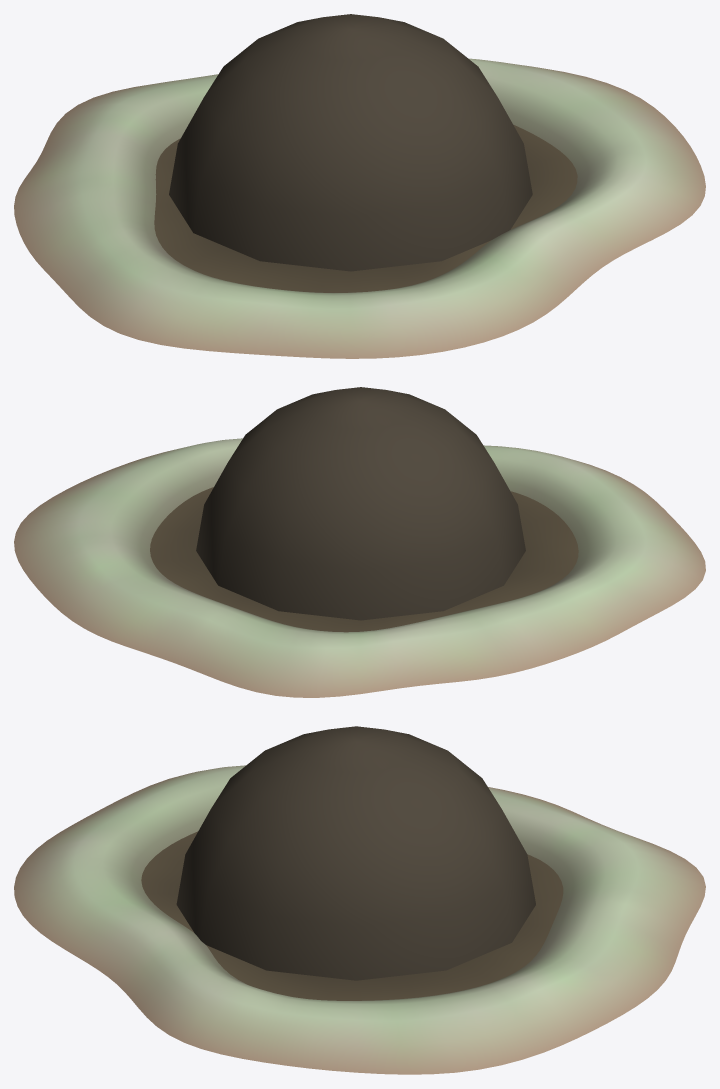
The model's file is bog.glb.
3 views of the same model, one above another, from view 1: azimuth 30°, elevation 25°; view 2: azimuth 150°, elevation 25°; view 3: azimuth 270°, elevation 25° (orthographic). The views are drawn at different scales.
Parts seen in each view (by area): view 1: bog_rim, bog_bubble, bog_mud; view 2: bog_rim, bog_bubble, bog_mud; view 3: bog_rim, bog_bubble, bog_mud.
Boxes of the visible parts, x1=… form: bog_rim: x1=14, y1=58, x2=705, y2=358; bog_bubble: x1=169, y1=14, x2=532, y2=271; bog_mud: x1=154, y1=124, x2=577, y2=292; bog_rim: x1=14, y1=438, x2=705, y2=697; bog_bubble: x1=196, y1=387, x2=525, y2=620; bog_mud: x1=150, y1=487, x2=578, y2=632; bog_rim: x1=14, y1=765, x2=705, y2=1074; bog_bubble: x1=176, y1=726, x2=535, y2=980; bog_mud: x1=141, y1=831, x2=563, y2=1000.
Size of the model in its own units: 4.05 by 1.07 by 3.85.
